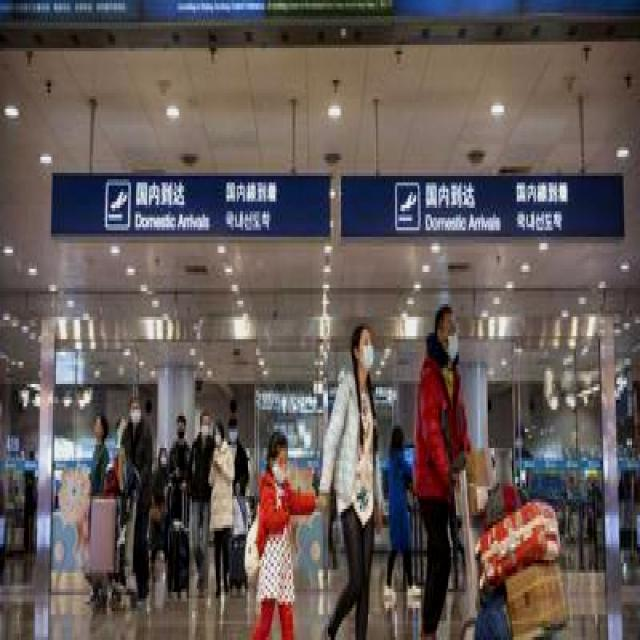face_mask: (443, 317, 459, 358), (358, 333, 374, 371), (270, 451, 286, 483), (130, 403, 140, 426), (200, 416, 210, 438), (227, 426, 237, 442), (176, 419, 184, 438), (213, 426, 221, 444), (160, 451, 166, 464)
face_nomask: (93, 416, 101, 438)
head_nohelmet: (267, 426, 290, 458), (434, 301, 454, 326), (353, 317, 372, 339)
person: (411, 310, 469, 640), (328, 317, 384, 630), (250, 435, 315, 640), (117, 403, 157, 611), (190, 416, 214, 595), (213, 410, 235, 595), (173, 400, 190, 602)
